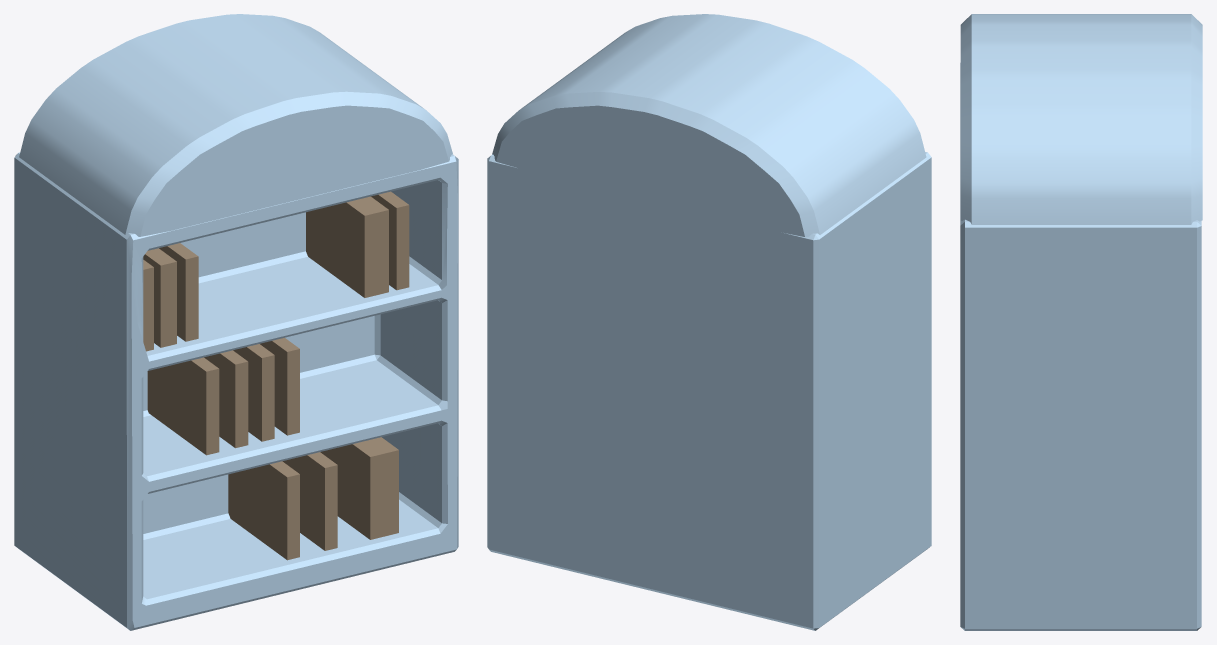
The model's file is bookshelf_fbx_colored.fbx.
3 views of the same model, side by side, from view 1: azimuth 30°, elevation 25°; view 2: azimuth 150°, elevation 25°; view 3: azimuth 270°, elevation 25° (orthographic). The views are drawn at different scales.
Parts seen in each view (by area): view 1: polySurface2, pCylinder2, pCube18, pCube22, pCube26, pCube20, pCube21, pCube25, pCube24, pCube23, pCube19, pCube28 (+2 smaller); view 2: polySurface2, pCylinder2; view 3: polySurface2, pCylinder2.
Part boxes in pixels (x1,y1,x2,y2): polySurface2: [14, 152, 458, 630]; pCylinder2: [19, 14, 452, 236]; pCube18: [306, 196, 388, 297]; pCube22: [320, 437, 398, 539]; pCube26: [147, 357, 219, 455]; pCube20: [228, 461, 299, 560]; pCube21: [282, 452, 337, 550]; pCube25: [204, 350, 248, 448]; pCube24: [233, 344, 274, 441]; pCube23: [260, 337, 299, 435]; pCube19: [143, 248, 176, 347]; pCube28: [159, 243, 198, 341]; polySurface2: [487, 152, 931, 630]; pCylinder2: [492, 14, 926, 236]; polySurface2: [960, 63, 1201, 630]; pCylinder2: [960, 14, 1202, 224].
Bounding box in the file's own units: 2.5 × 3.53 × 1.53.
